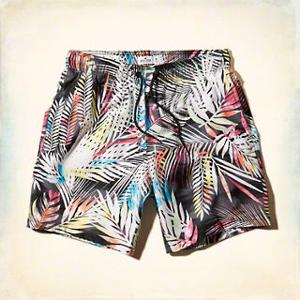C_shorts: (20, 40, 288, 270)
